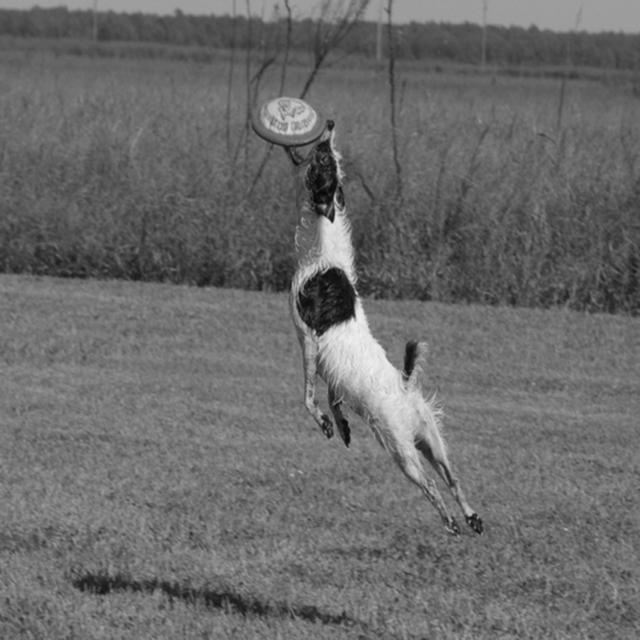dog: (284, 119, 480, 531)
